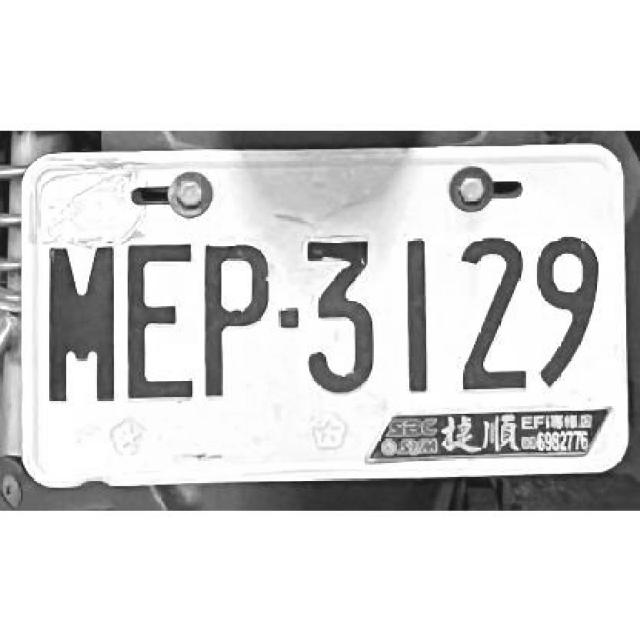-: (276, 306, 298, 331)
1: (402, 229, 429, 394)
2: (451, 226, 529, 399)
3: (301, 232, 374, 396)
9: (528, 232, 603, 390)
E: (121, 238, 194, 397)
M: (44, 239, 119, 403)
P: (198, 238, 272, 396)
